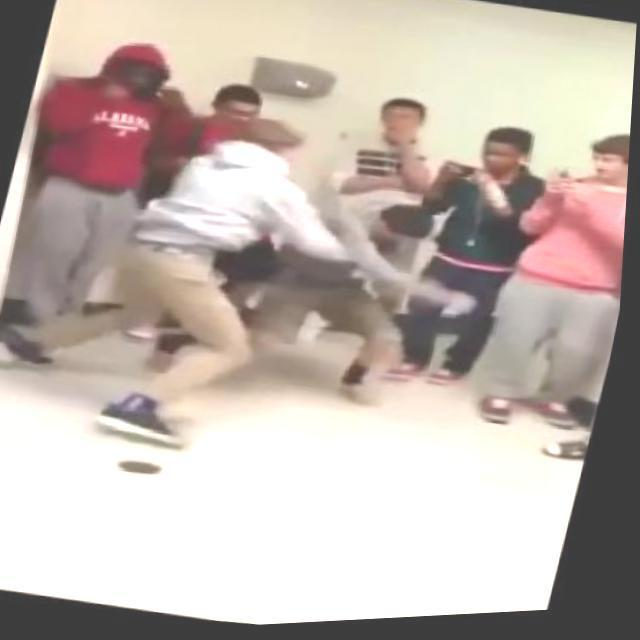fight: (76, 84, 484, 433)
